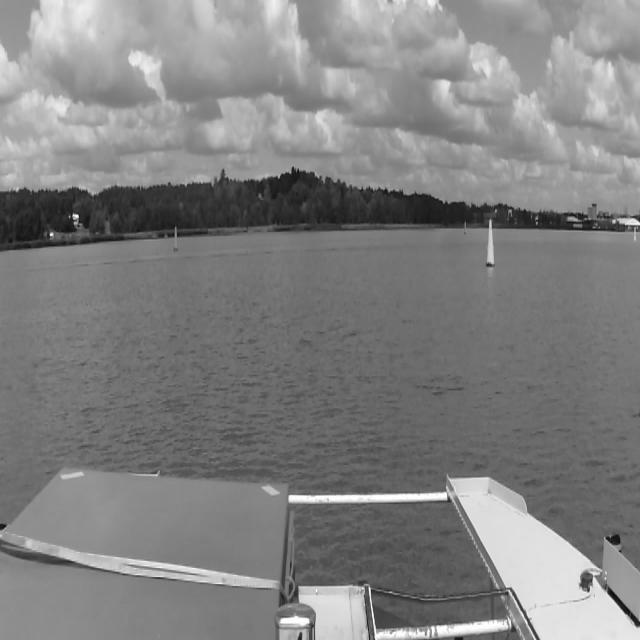buoy: (486, 220, 496, 264), (174, 225, 178, 249), (464, 220, 468, 238)
